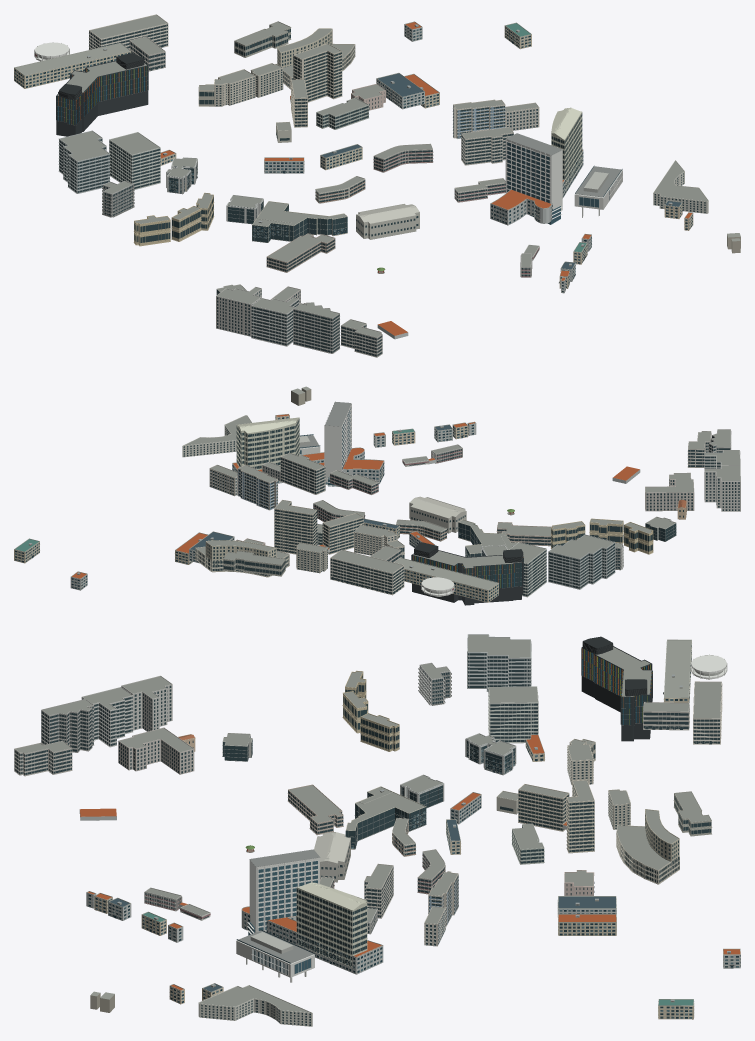
File: zone_2_2-high.glb
The picture shows the model from 3 angles, top to bottom: view 1: azimuth 30°, elevation 25°; view 2: azimuth 150°, elevation 25°; view 3: azimuth 270°, elevation 25°; orthographic projection. The views are drawn at different scales.
Parts seen in each view (by area): view 1: web_building_107139044, web_building_201907981, web_building_135312912, web_building_230129212, web_building_135311808, web_building_134410451, web_building_174133698, web_building_135181545, web_building_138223977, web_building_2712284, web_building_134410448, web_building_923320403 (+28 smaller); view 2: web_building_107139044, web_building_135312912, web_building_201907994, web_building_134410448, web_building_174133698, web_building_134410451, web_building_201907981, web_building_138223979, web_building_135156235, web_building_135021155, web_building_135018853, web_building_923320403 (+28 smaller); view 3: web_building_107139044, web_building_201907994, web_building_201907981, web_building_135312912, web_building_135906003, web_building_135311808, web_building_230129212, web_building_135156235, web_building_201907977, web_building_2712284, web_building_135181545, web_building_230185998 (+33 smaller).
Boxes of the visible parts, x1,y1,x2,y2 form: web_building_107139044: (56,53,148,136); web_building_201907981: (503,133,562,224); web_building_135312912: (58,130,110,193); web_building_230129212: (252,201,347,242); web_building_135311808: (109,132,160,189); web_building_134410451: (14,43,131,88); web_building_174133698: (293,43,342,102); web_building_135181545: (293,302,340,353); web_building_138223977: (251,297,299,346); web_building_2712284: (490,149,583,225); web_building_134410448: (89,14,168,49); web_building_923320403: (356,203,419,239); web_building_107139044: (411,542,523,605); web_building_135312912: (548,534,615,589); web_building_201907994: (236,417,299,469); web_building_134410448: (330,549,404,595); web_building_174133698: (274,499,317,554); web_building_134410451: (394,557,498,602); web_building_201907981: (324,401,351,486); web_building_138223979: (704,465,740,511); web_building_135156235: (645,472,694,511); web_building_135021155: (280,452,325,494); web_building_135018853: (237,464,278,510); web_building_923320403: (409,496,466,533); web_building_107139044: (581,636,652,741); web_building_201907994: (296,882,367,967); web_building_201907981: (247,849,320,935); web_building_135312912: (467,634,531,691); web_building_135906003: (198,985,312,1026); web_building_135311808: (488,686,538,743); web_building_230129212: (345,786,426,849); web_building_135156235: (118,727,194,774); web_building_201907977: (236,929,314,982); web_building_2712284: (241,906,383,974); web_building_135181545: (41,699,94,752); web_building_230185998: (616,825,679,884).
Size of the model in its own units: 589 by 114 by 608.
